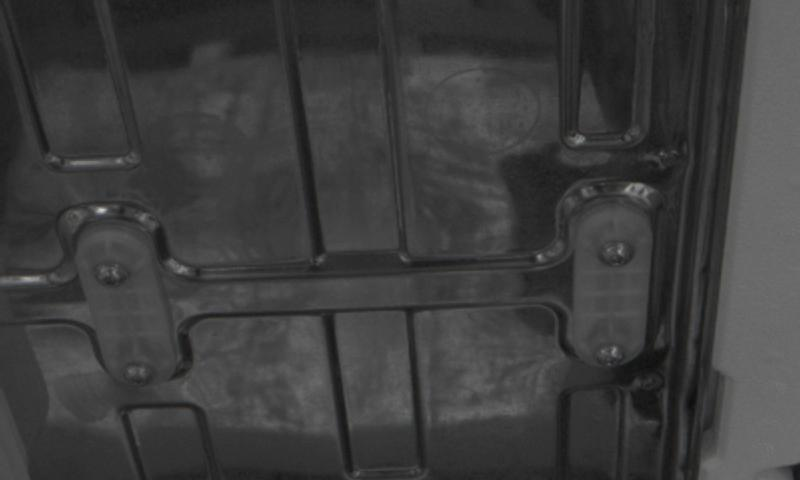vida-ok: (598, 232, 641, 277), (92, 255, 132, 300), (117, 352, 160, 392), (593, 338, 633, 376)
